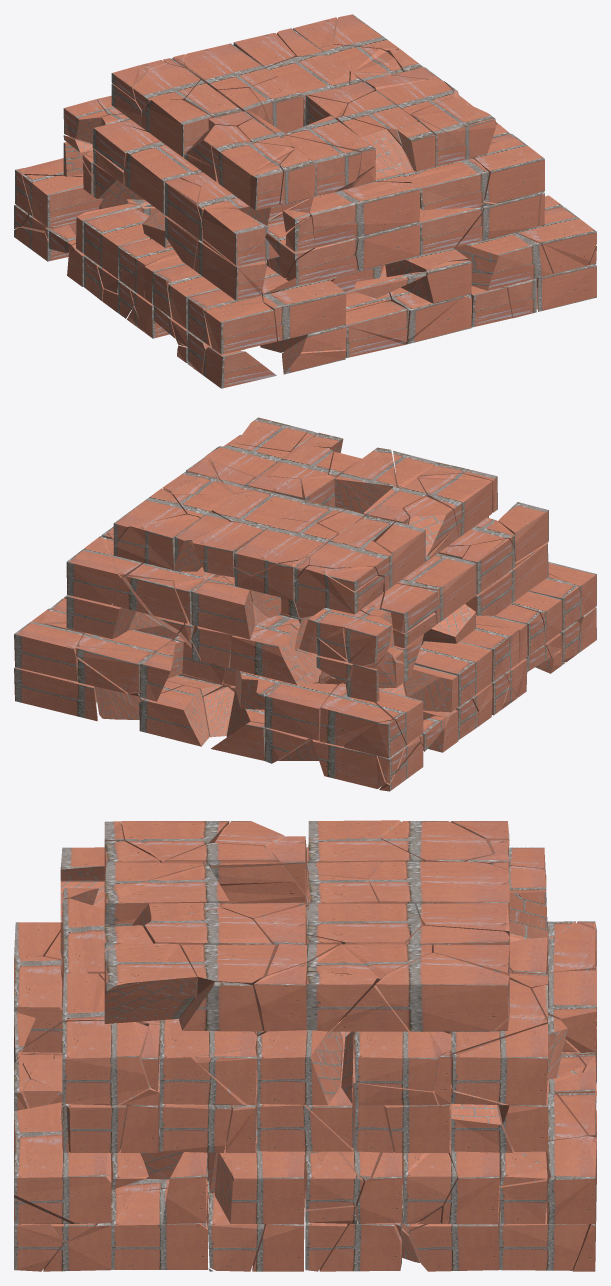
Rendered from SM_Tower_Footing_02.fbx.
The picture shows the model from 3 angles, top to bottom: view 1: azimuth 30°, elevation 25°; view 2: azimuth 150°, elevation 25°; view 3: azimuth 270°, elevation 25°; orthographic projection. The views are drawn at different scales.
Visible parts, largest first — view 1: SM_Tower_Footing_02; view 2: SM_Tower_Footing_02; view 3: SM_Tower_Footing_02.
Boxes of the visible parts, x1=… form: SM_Tower_Footing_02: x1=14, y1=14, x2=596, y2=388; SM_Tower_Footing_02: x1=14, y1=417, x2=596, y2=791; SM_Tower_Footing_02: x1=14, y1=820, x2=596, y2=1271.
Size of the model in its own units: 75.02 by 32.93 by 72.04.
